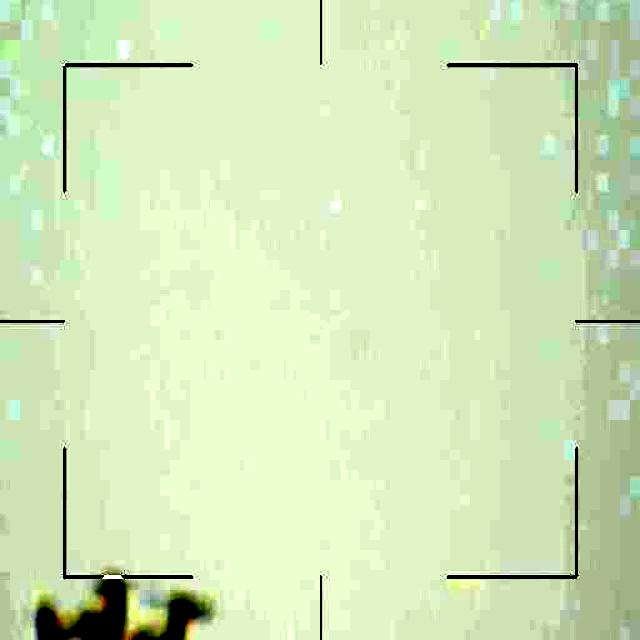bird: (26, 580, 210, 640)
